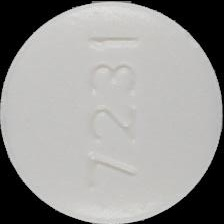0093-2064: (0, 0, 224, 224)
